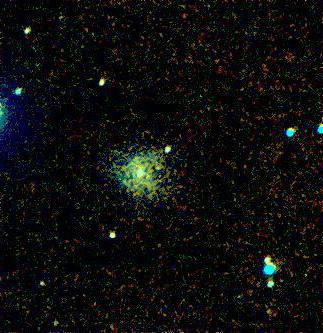star: (142, 157, 172, 187)
